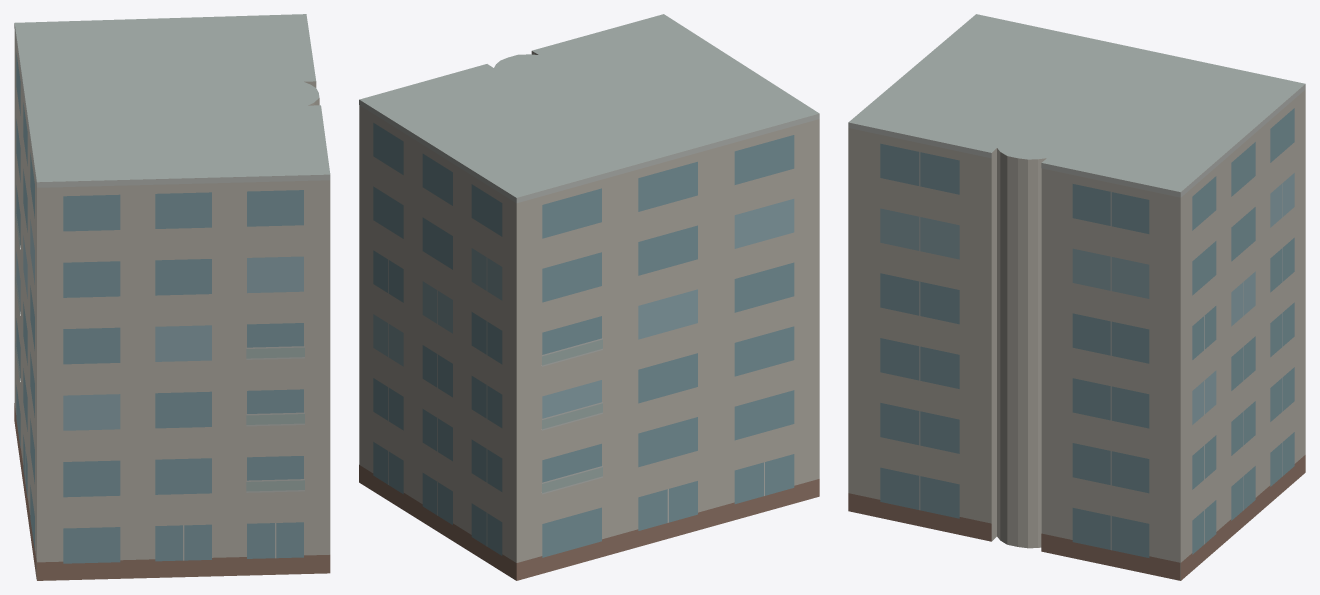
File: survey-upis-32888409.glb
The picture shows the model from 3 angles, left to right: view 1: azimuth 30°, elevation 25°; view 2: azimuth 150°, elevation 25°; view 3: azimuth 270°, elevation 25°; orthographic projection. The views are drawn at different scales.
Visible parts, largest first — view 1: survey-upis-32888409.tmp; view 2: survey-upis-32888409.tmp; view 3: survey-upis-32888409.tmp.
Part boxes in pixels (<box>): survey-upis-32888409.tmp: <box>14,14,330,580</box>; survey-upis-32888409.tmp: <box>359,14,819,580</box>; survey-upis-32888409.tmp: <box>848,14,1305,580</box>.
Size of the model in its own units: 17.02 by 17.3 by 18.46.
